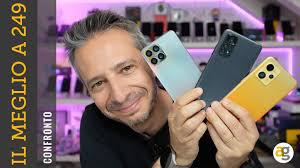0: (81, 44, 153, 126)
Hand: (201, 107, 260, 161), (165, 99, 214, 155)
Smartphone: (188, 35, 261, 108), (226, 61, 297, 121), (142, 40, 200, 104)
